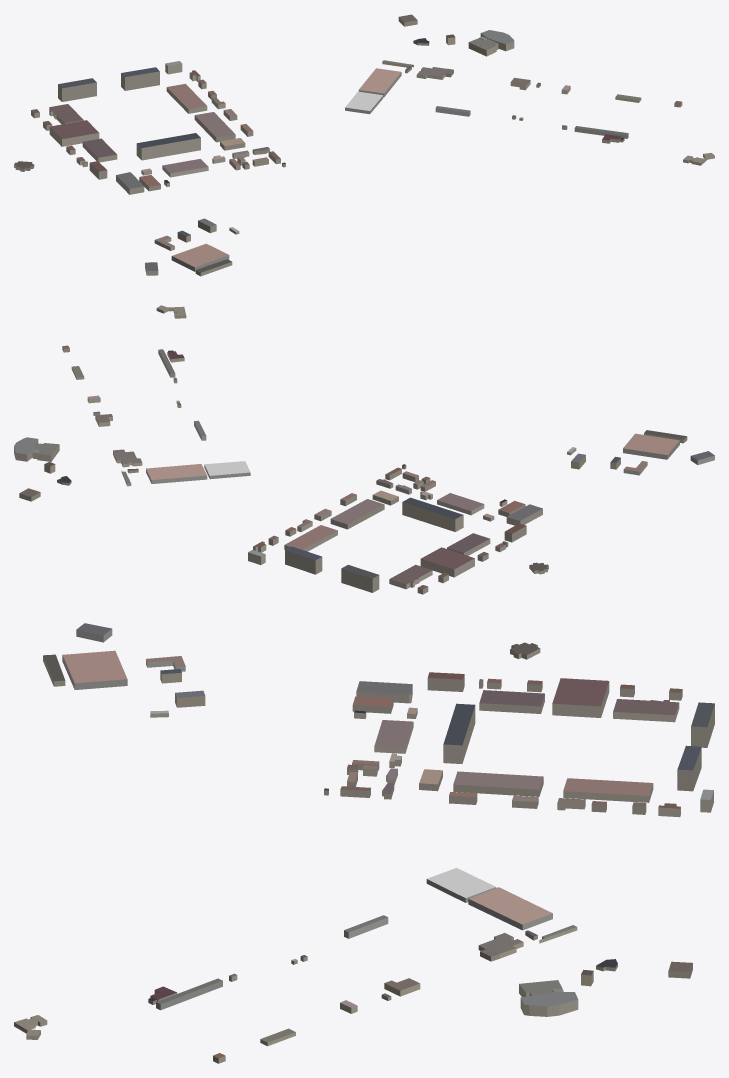
3 views of the same model, one above another, from view 1: azimuth 30°, elevation 25°; view 2: azimuth 150°, elevation 25°; view 3: azimuth 270°, elevation 25° (orthographic). The views are drawn at different scales.
Visible parts, largest first — view 1: tuile; view 2: tuile; view 3: tuile.
Boxes of the visible parts, x1,y1,x2,y2 form: tuile: (14,14,714,276); tuile: (14,305,714,594); tuile: (14,623,714,1063).
Size of the model in its own units: 861 by 19.97 by 595.
